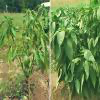Tomato leaf bacterial spot: (86, 59, 96, 88), (63, 37, 73, 60), (83, 49, 96, 63), (33, 48, 41, 69), (57, 29, 65, 48), (43, 52, 49, 77), (41, 34, 47, 56), (7, 45, 12, 71), (70, 32, 78, 48), (70, 59, 76, 77), (11, 26, 18, 39), (24, 55, 30, 70), (75, 77, 80, 95), (84, 60, 89, 78), (67, 73, 75, 84), (88, 37, 93, 49), (29, 17, 35, 21)
